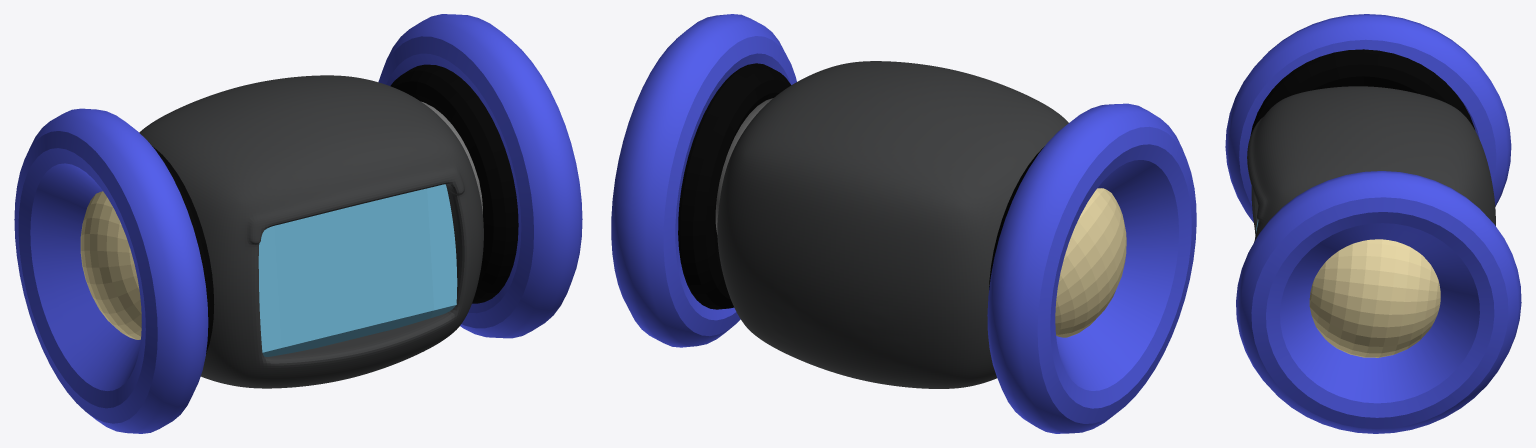
File: bot.fbx
The picture shows the model from 3 angles, left to right: view 1: azimuth 30°, elevation 25°; view 2: azimuth 150°, elevation 25°; view 3: azimuth 270°, elevation 25°; orthographic projection. The views are drawn at different scales.
Visible parts, largest first — view 1: Body, inner tire r.001, Face, inner tire r.002, Tire L.001, Cap.001, Tire L; view 2: Body, inner tire r.001, inner tire r.002, Tire L.001, Cap.001, axel.001; view 3: inner tire r.002, Body, inner tire r.001, Cap, Tire L.
Boxes of the visible parts, bbox=[...] form: Body: bbox=[139, 75, 483, 388]; inner tire r.001: bbox=[14, 108, 208, 433]; Face: bbox=[258, 184, 457, 356]; inner tire r.002: bbox=[378, 14, 582, 338]; Tire L.001: bbox=[390, 64, 518, 303]; Cap.001: bbox=[80, 191, 141, 339]; Tire L: bbox=[152, 146, 214, 353]; Body: bbox=[717, 61, 1068, 388]; inner tire r.001: bbox=[987, 103, 1196, 433]; inner tire r.002: bbox=[611, 14, 796, 347]; Tire L.001: bbox=[678, 63, 791, 309]; Cap.001: bbox=[1055, 188, 1126, 337]; axel.001: bbox=[715, 98, 773, 234]; inner tire r.002: bbox=[1236, 171, 1521, 433]; Body: bbox=[1247, 86, 1495, 242]; inner tire r.001: bbox=[1225, 14, 1511, 222]; Cap: bbox=[1309, 239, 1440, 357]; Tire L: bbox=[1250, 49, 1475, 136].
Bounding box in the file's own units: 408 × 269 × 278.
